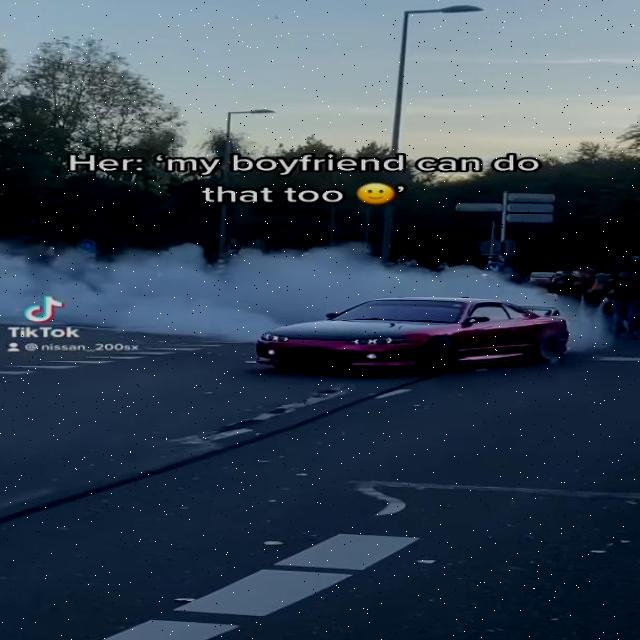car: (246, 294, 576, 377)
